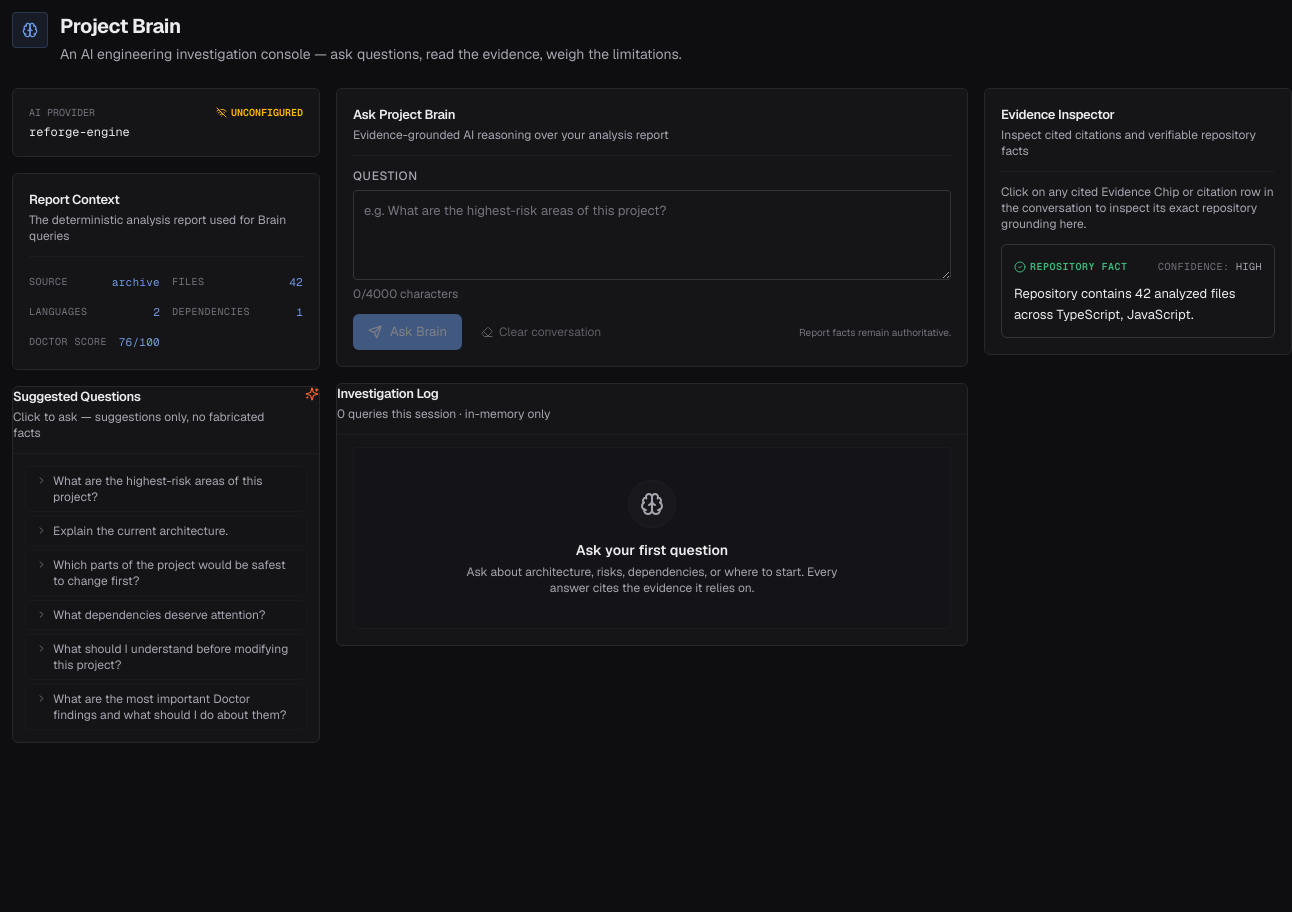
Test: Project Brain › renders the answer and confidence
The width and height of the screenshot is (1292, 912).
Step 1. Type "What are the highest-risk areas?" into the text box labelled "Question" → (652, 235), box [353,190,951,280]
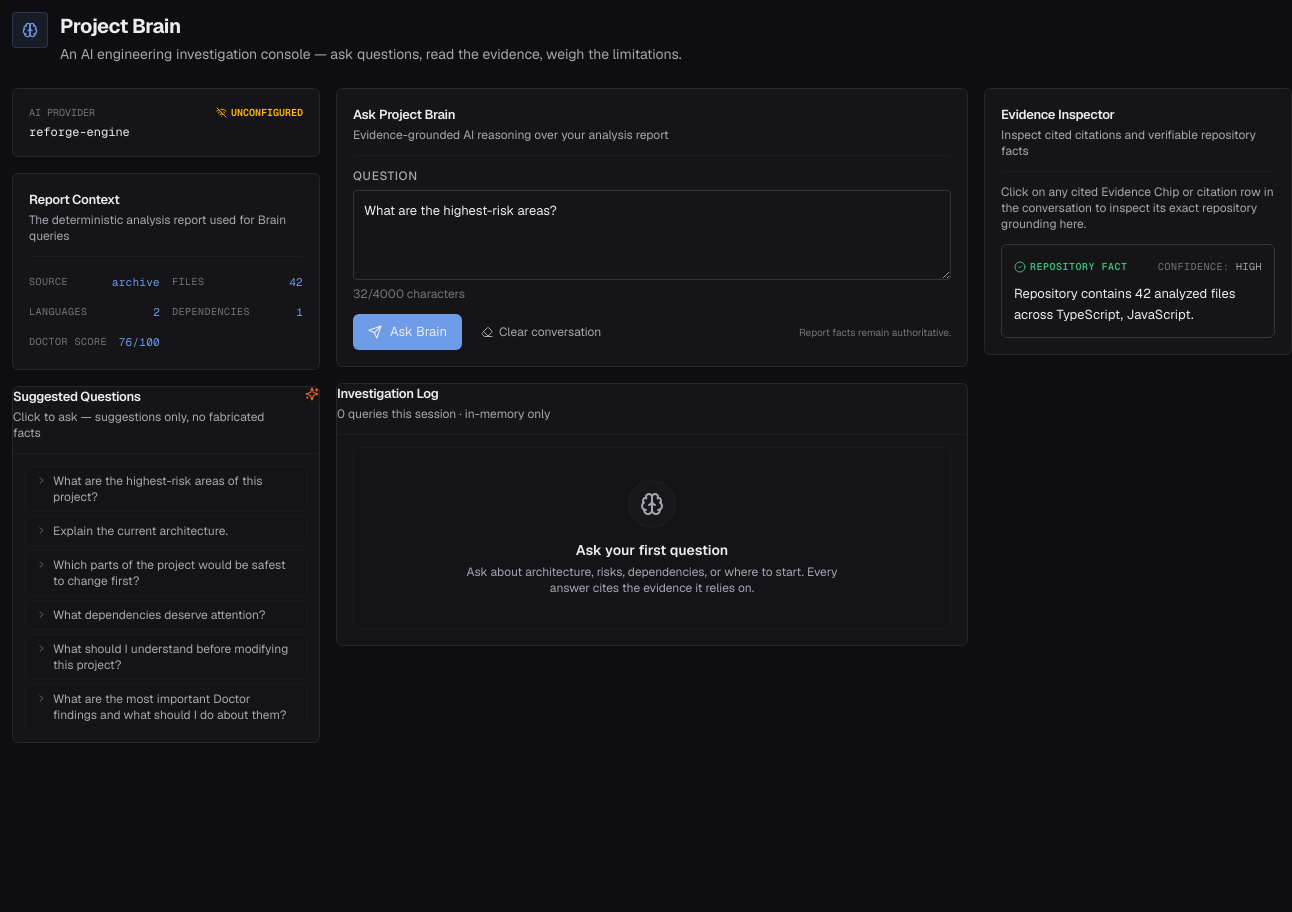
Step 2. Click the button "Ask Brain" → (408, 332), box [353,314,462,350]
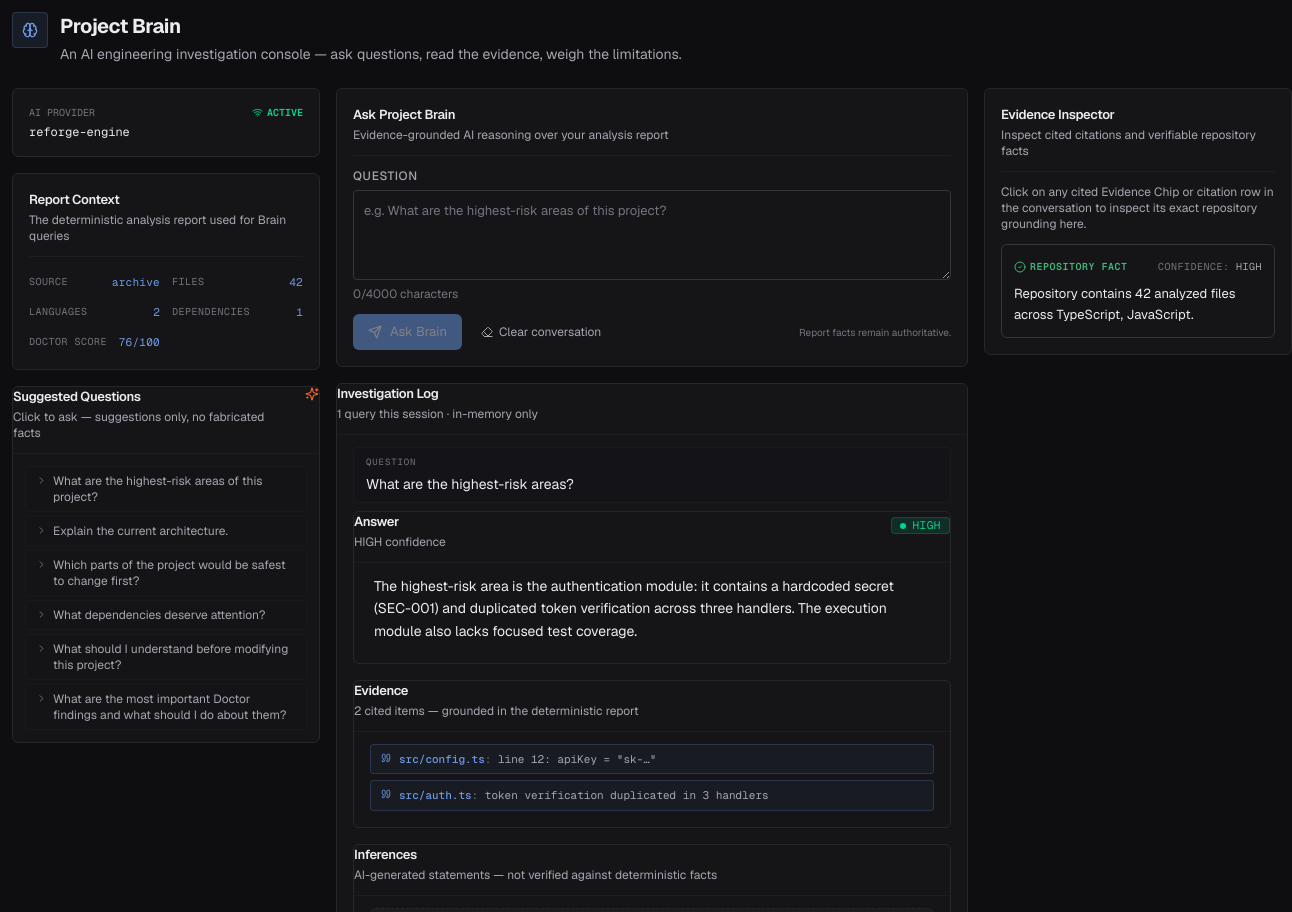
expect the text "The highest-risk area is the authentication module" is shown: met, box [374,576,894,640]
expect the text "HIGH" is shown: met, box [891,517,950,534]
